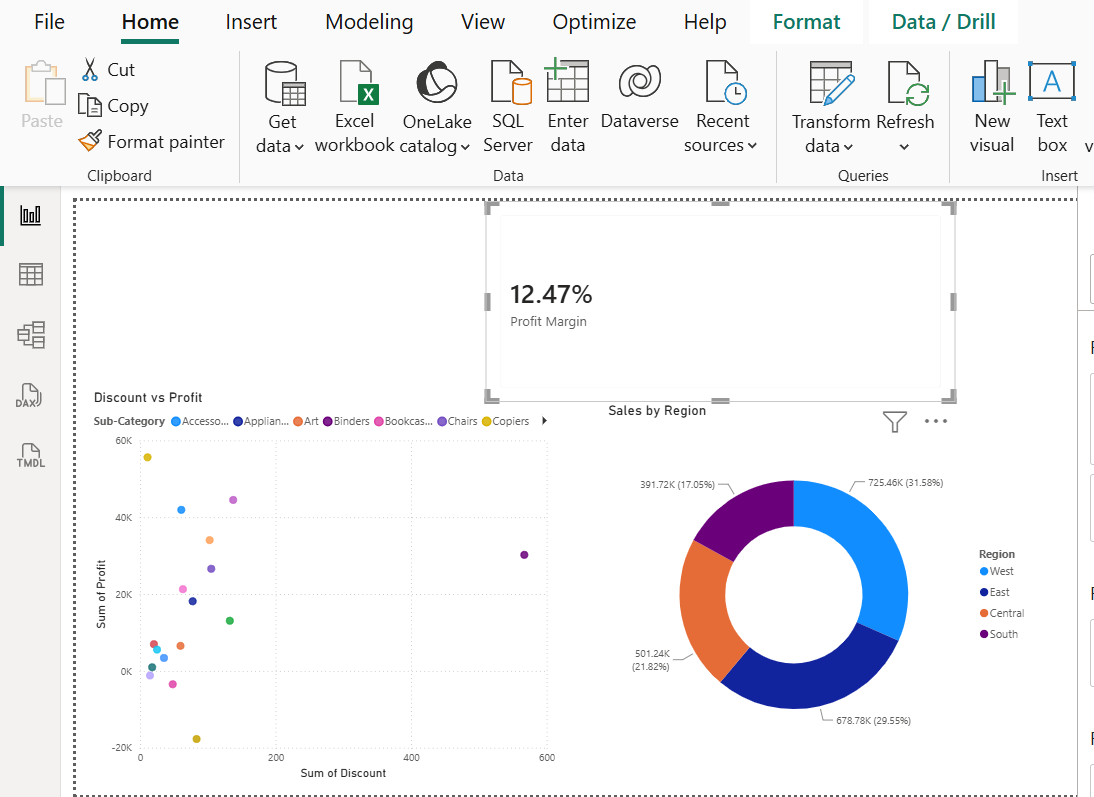

The dashboard page shown, as its layout file describes it:
{"tool":"powerbi","page":{"name":"Page 3","canvas":[1280,720],"ordinal":2},"visuals":[{"type":"scatterChart","title":"Discount vs Profit","fields":{"X":["Sum(Sample - Superstore.Discount)"],"Y":["Sum(Sample - Superstore.Profit)"],"Series":["Sample - Superstore.Sub-Category"]},"box":[17,226.8,568.8,478.1],"z":0},{"type":"donutChart","title":"Sales by Region","fields":{"Category":["Sample - Superstore.Region"],"Y":["Sum(Sample - Superstore.Sales)"]},"box":[640.4,243.9,524.6,447.4],"z":1000},{"type":"cardVisual","fields":{"Data":["Sample - Superstore.Profit Margin"]},"box":[497,0,568.8,164.4],"z":1001}]}

Visuals, with their boxes on the page's 1280x720 design canvas (x1, y1, x2, y2). These are canvas units, not pixel positions in the 1094x797 screenshot, which may show the page scaled, cropped or inside an application window:
"Discount vs Profit" scatterChart: 17,227,586,705
"Sales by Region" donutChart: 640,244,1165,691
cardVisual - Sample - Superstore.Profit Margin: 497,0,1066,164
